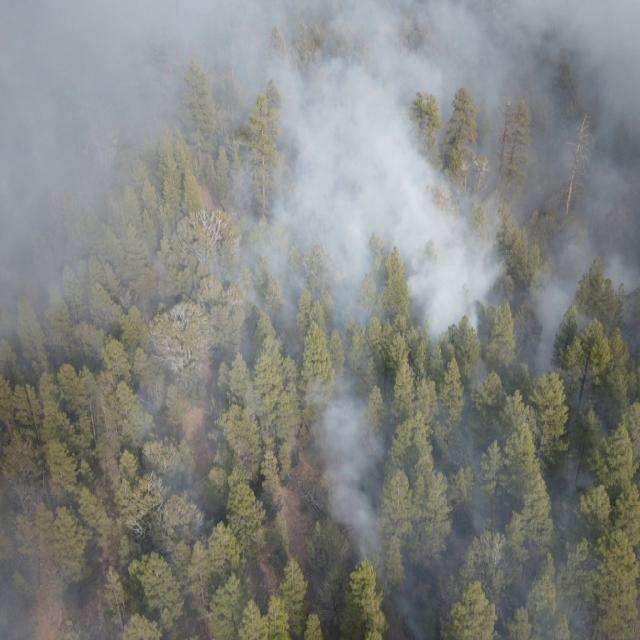smoke: (0, 0, 640, 331), (0, 437, 640, 640), (94, 332, 640, 441)
